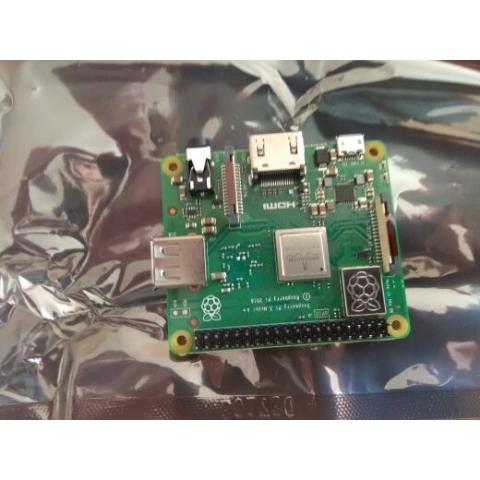Raspberry-Pi-3-Model-A-: (143, 127, 416, 363)
